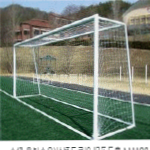goals: (13, 13, 136, 141)
